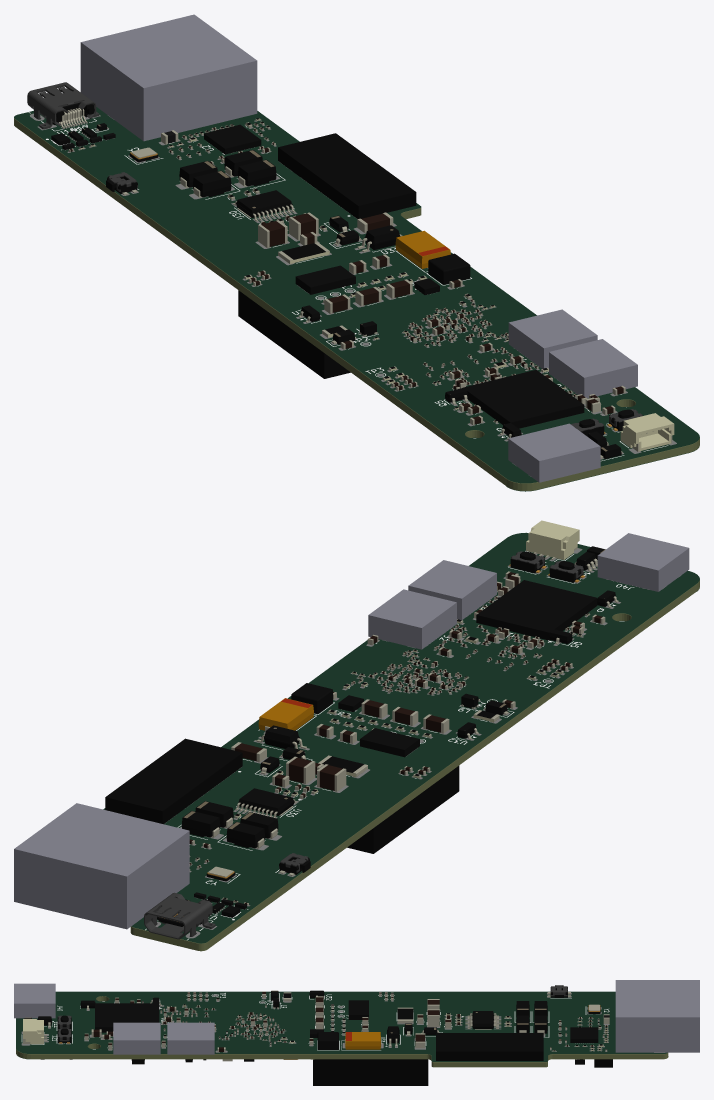
Rendered from commander_mainboard.dae.
3 views of the same model, one above another, from view 1: azimuth 30°, elevation 25°; view 2: azimuth 150°, elevation 25°; view 3: azimuth 270°, elevation 25° (orthographic). The views are drawn at different scales.
Visible parts, largest first — view 1: part_06, part_27, part_01, part_00, part_07, part_12, part_05, part_10, part_31, part_32, part_11, part_36 (+3 smaller); view 2: part_06, part_27, part_01, part_00, part_05, part_07, part_12, part_10, part_31, part_11, part_36, part_32 (+3 smaller); view 3: part_06, part_27, part_00, part_01, part_12, part_07, part_05, part_31, part_32, part_10, part_37, part_36 (+8 smaller).
Part boxes in pixels (bbox=[...]): part_06: bbox=[60, 136, 696, 432]; part_27: bbox=[80, 14, 637, 482]; part_01: bbox=[51, 102, 633, 459]; part_00: bbox=[80, 118, 572, 421]; part_07: bbox=[14, 107, 694, 475]; part_12: bbox=[14, 118, 699, 490]; part_05: bbox=[392, 388, 699, 483]; part_10: bbox=[70, 127, 623, 424]; part_31: bbox=[68, 124, 672, 458]; part_32: bbox=[59, 108, 600, 424]; part_11: bbox=[27, 82, 642, 431]; part_36: bbox=[80, 119, 674, 451]; part_06: bbox=[164, 537, 570, 914]; part_27: bbox=[14, 533, 689, 929]; part_01: bbox=[157, 546, 615, 926]; part_00: bbox=[105, 597, 588, 901]; part_05: bbox=[507, 532, 699, 670]; part_07: bbox=[103, 539, 693, 943]; part_12: bbox=[130, 580, 699, 951]; part_10: bbox=[189, 572, 602, 904]; part_31: bbox=[189, 547, 618, 912]; part_11: bbox=[144, 551, 583, 939]; part_36: bbox=[197, 520, 589, 902]; part_32: bbox=[189, 574, 605, 902]; part_06: bbox=[32, 992, 615, 1061]; part_27: bbox=[14, 980, 699, 1054]; part_00: bbox=[142, 993, 612, 1085]; part_01: bbox=[24, 985, 600, 1064]; part_12: bbox=[16, 996, 668, 1067]; part_07: bbox=[38, 991, 667, 1061]; part_05: bbox=[16, 992, 192, 1053]; part_31: bbox=[23, 992, 607, 1051]; part_32: bbox=[91, 991, 609, 1051]; part_10: bbox=[84, 992, 608, 1051]; part_37: bbox=[21, 993, 585, 1059]; part_36: bbox=[23, 1005, 607, 1051].
Bounding box in the file's own units: 34.41 × 140 × 17.28.
